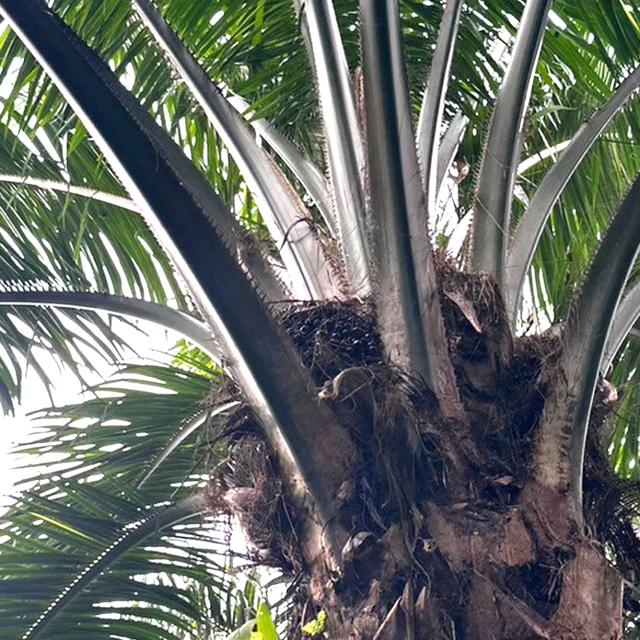ripe: (259, 281, 396, 400)
